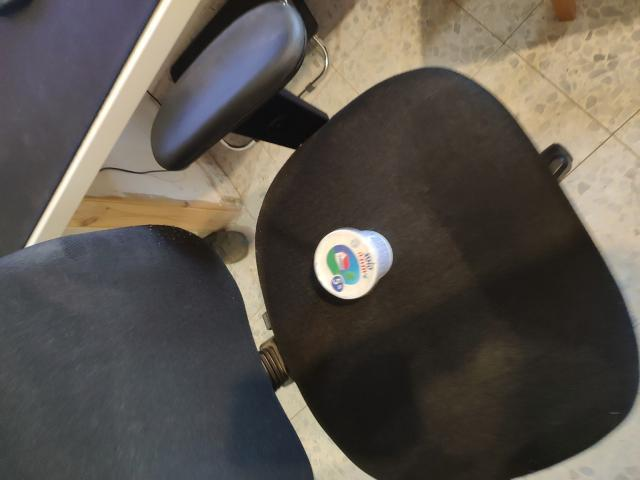cotage: (309, 225, 409, 312)
